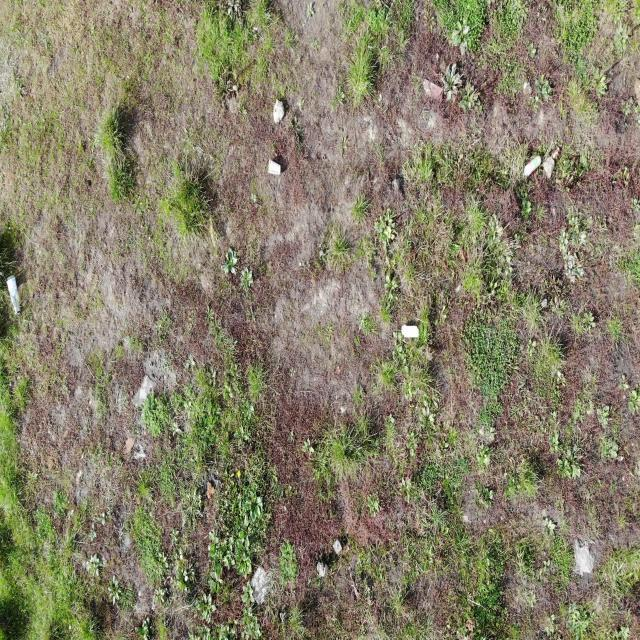rubbish: (5, 274, 22, 318), (522, 155, 542, 180), (402, 325, 420, 339), (268, 160, 281, 177)
